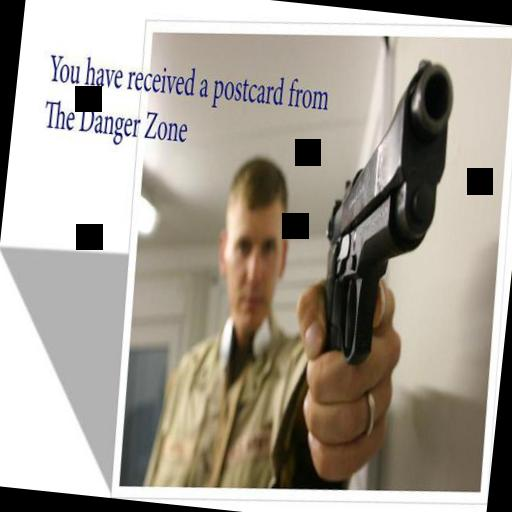Handgun: (310, 49, 458, 370)
